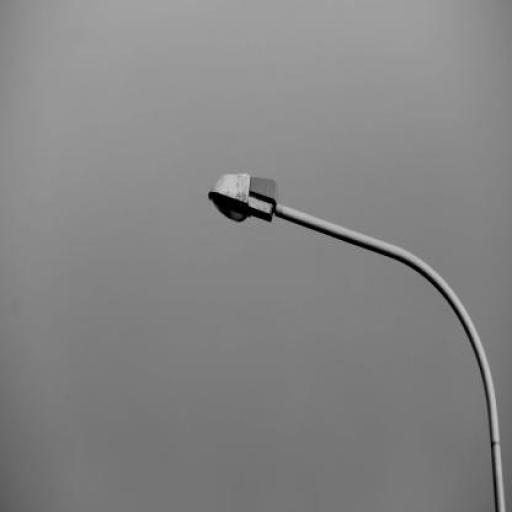street light: (210, 172, 506, 512)
